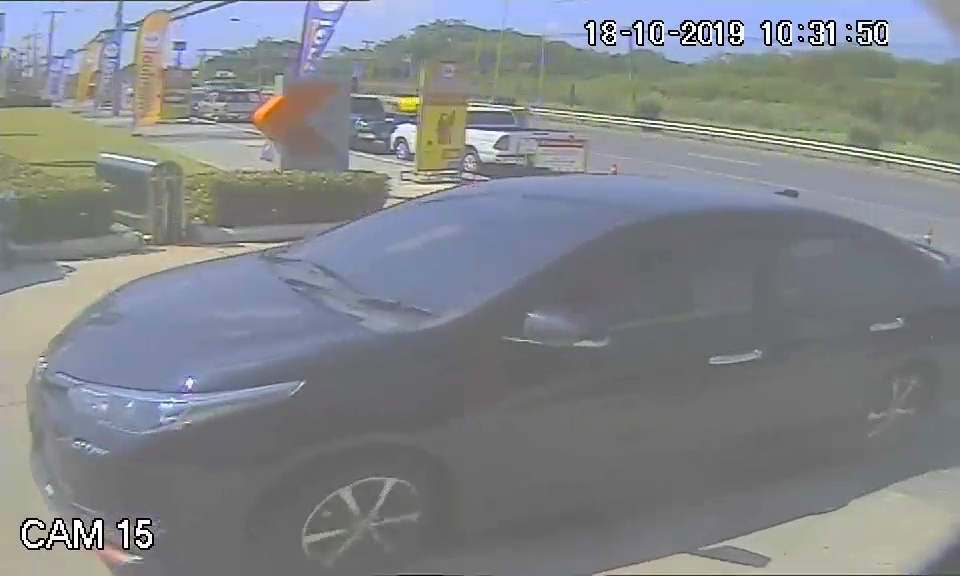sedan: (22, 177, 880, 556)
